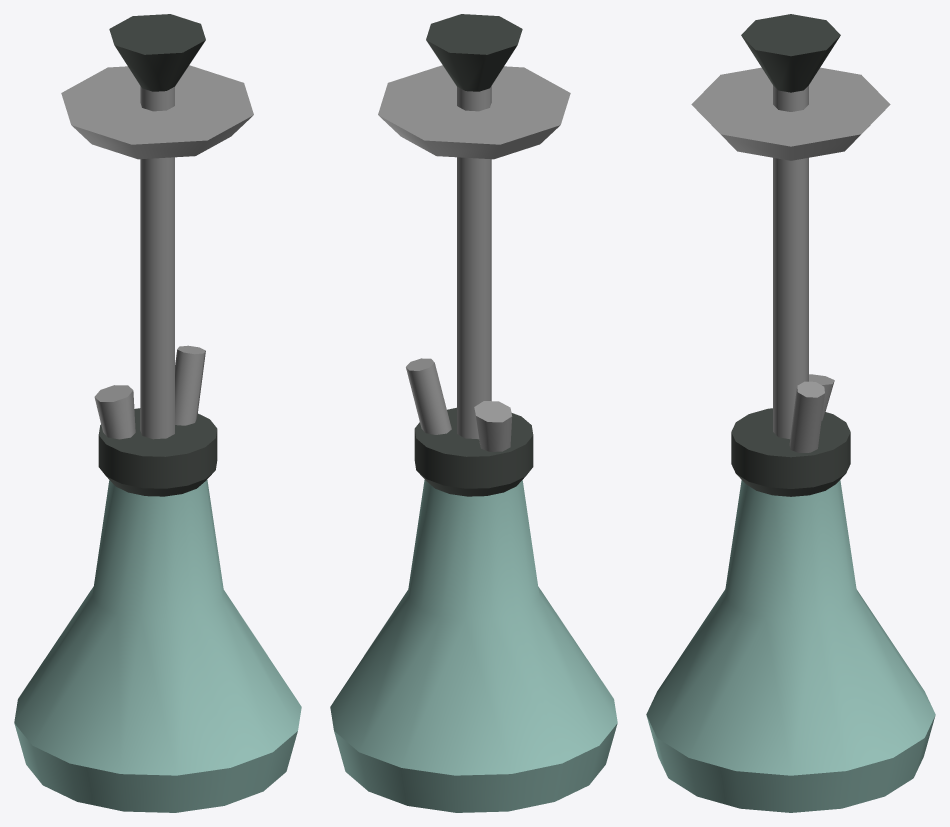
File: kalik.fbx
3 renders of one model, left to right at view 1: azimuth 30°, elevation 25°; view 2: azimuth 150°, elevation 25°; view 3: azimuth 270°, elevation 25°, orthographic.
Parts seen in each view (by area): view 1: kalik; view 2: kalik; view 3: kalik.
Part boxes in pixels (box(x1,y1,x2,y2)): kalik: box(14, 14, 301, 812); kalik: box(330, 14, 617, 812); kalik: box(646, 14, 935, 812).
Size of the model in its own units: 21.21 by 58.33 by 21.21.
